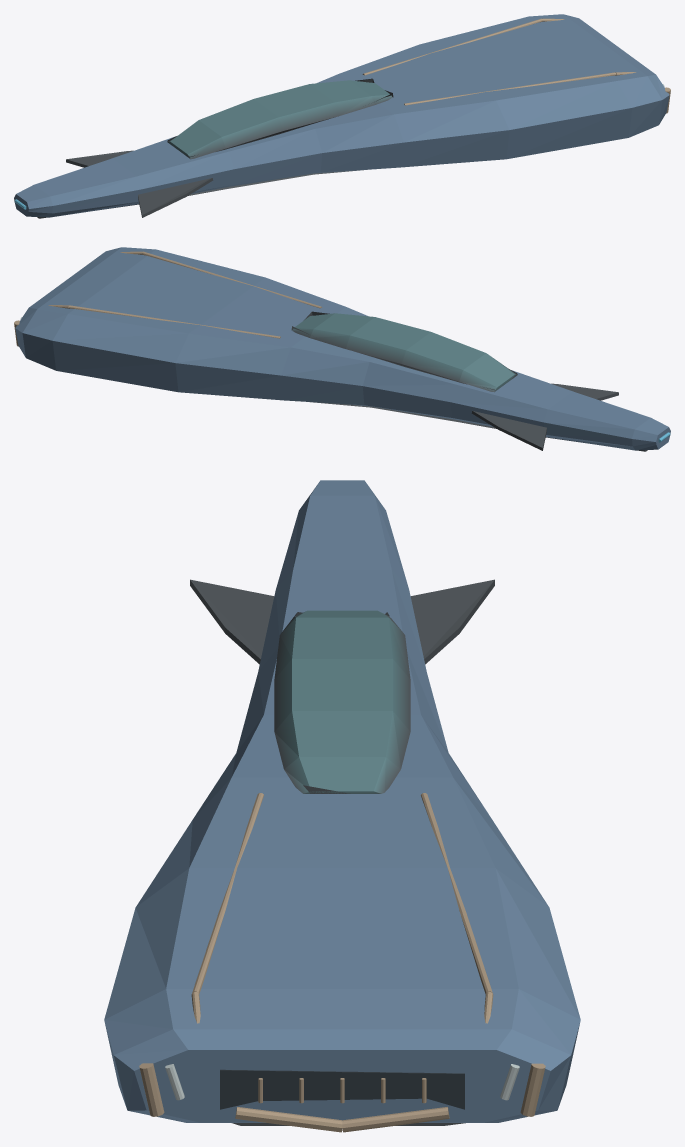
The model's file is jetjet_blue_flight.glb.
The picture shows the model from 3 angles, top to bottom: view 1: azimuth 30°, elevation 25°; view 2: azimuth 150°, elevation 25°; view 3: azimuth 270°, elevation 25°; orthographic projection. The views are drawn at different scales.
Parts seen in each view (by area): view 1: hull_0, cockpit_frame_2, aft_fins_7, bonnet_edge_3, lower_keel_1; view 2: hull_0, cockpit_frame_2, aft_fins_7, bonnet_edge_3, lower_keel_1; view 3: hull_0, cockpit_frame_2, aft_fins_7, front_grille_8, bonnet_edge_3, front_chevron_6, front_corner_4.
Boxes of the visible parts, box(x1,y1,x2,y2) form: hull_0: box(14, 14, 669, 217); cockpit_frame_2: box(167, 78, 393, 159); aft_fins_7: box(66, 150, 213, 217); bonnet_edge_3: box(362, 18, 636, 105); lower_keel_1: box(37, 169, 367, 218); hull_0: box(15, 247, 670, 450); cockpit_frame_2: box(291, 311, 517, 392); aft_fins_7: box(471, 383, 618, 450); bonnet_edge_3: box(48, 251, 322, 338); lower_keel_1: box(310, 402, 647, 451); hull_0: box(104, 480, 580, 1122); cockpit_frame_2: box(274, 610, 410, 793); aft_fins_7: box(190, 579, 494, 664); front_grille_8: box(220, 1069, 464, 1109); bonnet_edge_3: box(191, 793, 493, 1023); front_chevron_6: box(235, 1107, 449, 1132); front_corner_4: box(139, 1063, 545, 1116).
Size of the model in its own units: 10.21 by 1.23 by 3.5.
